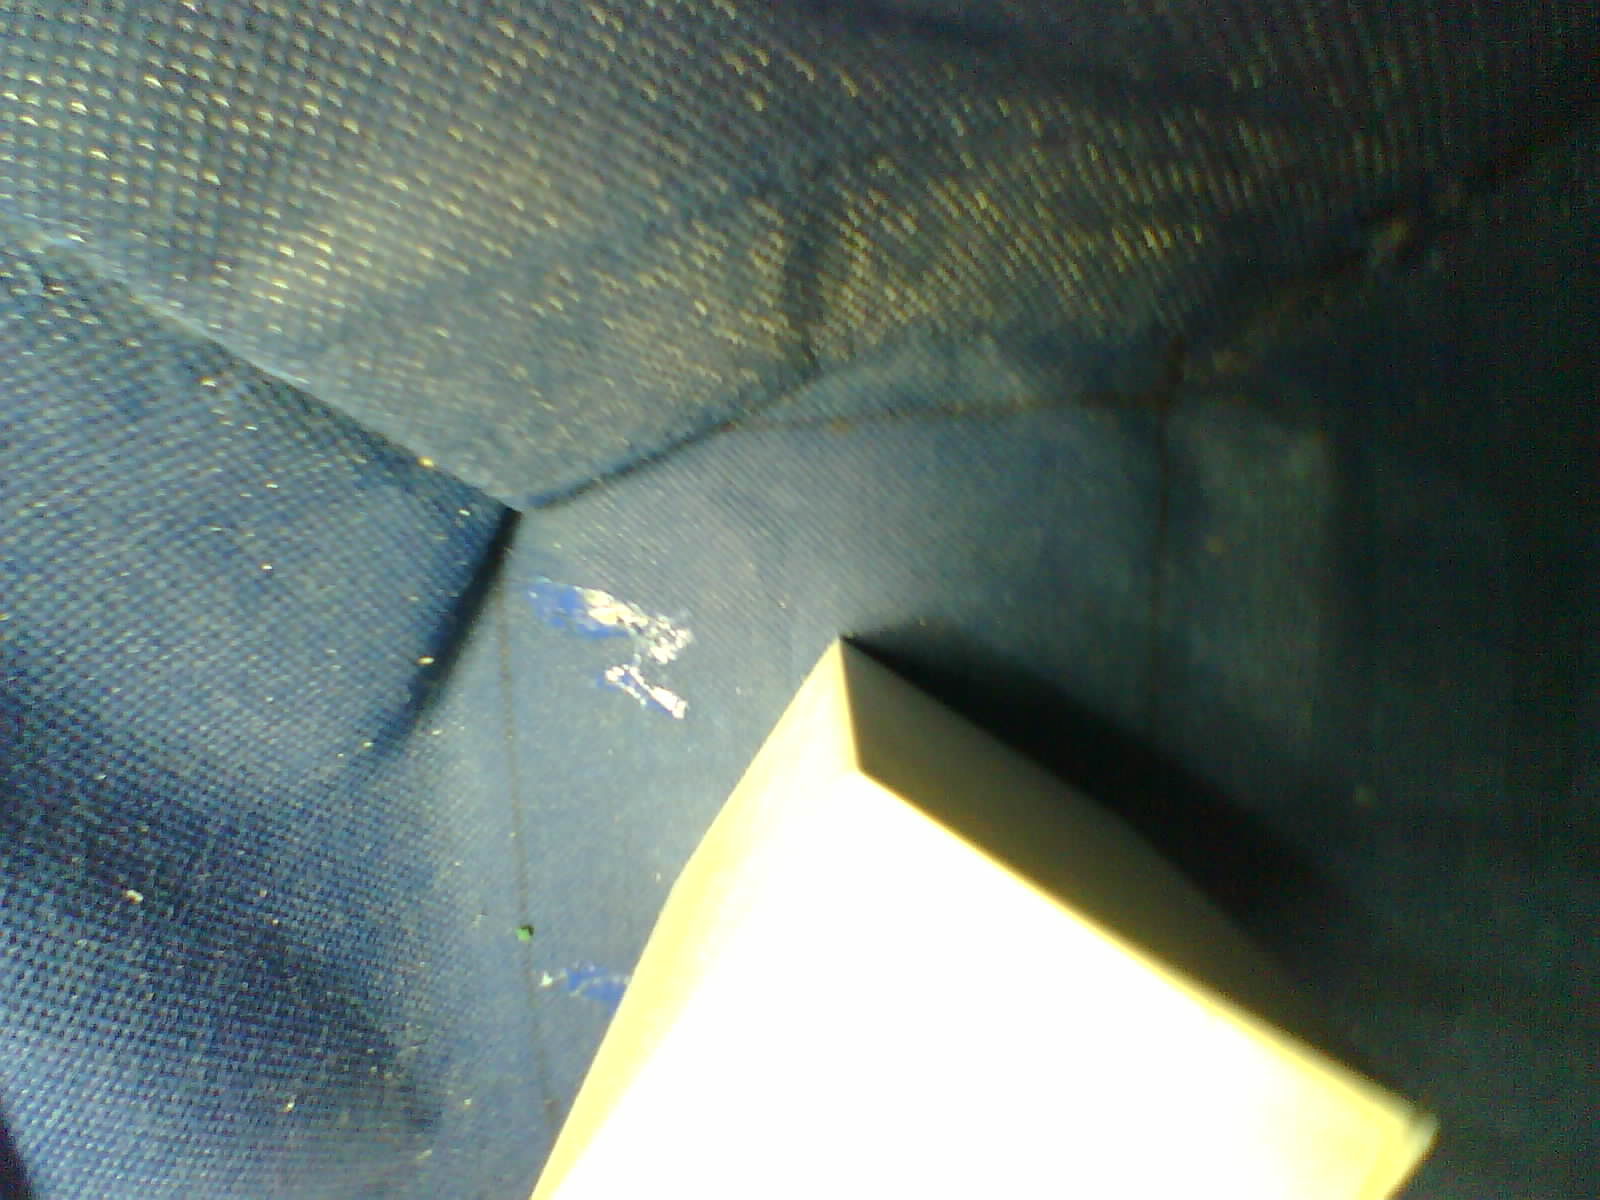cube-hard: (513, 610, 1454, 1200)
